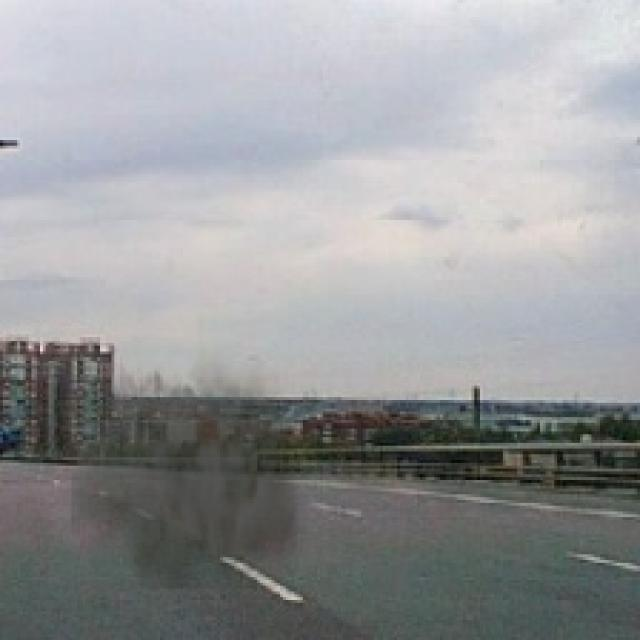smoke: (71, 340, 312, 589)
